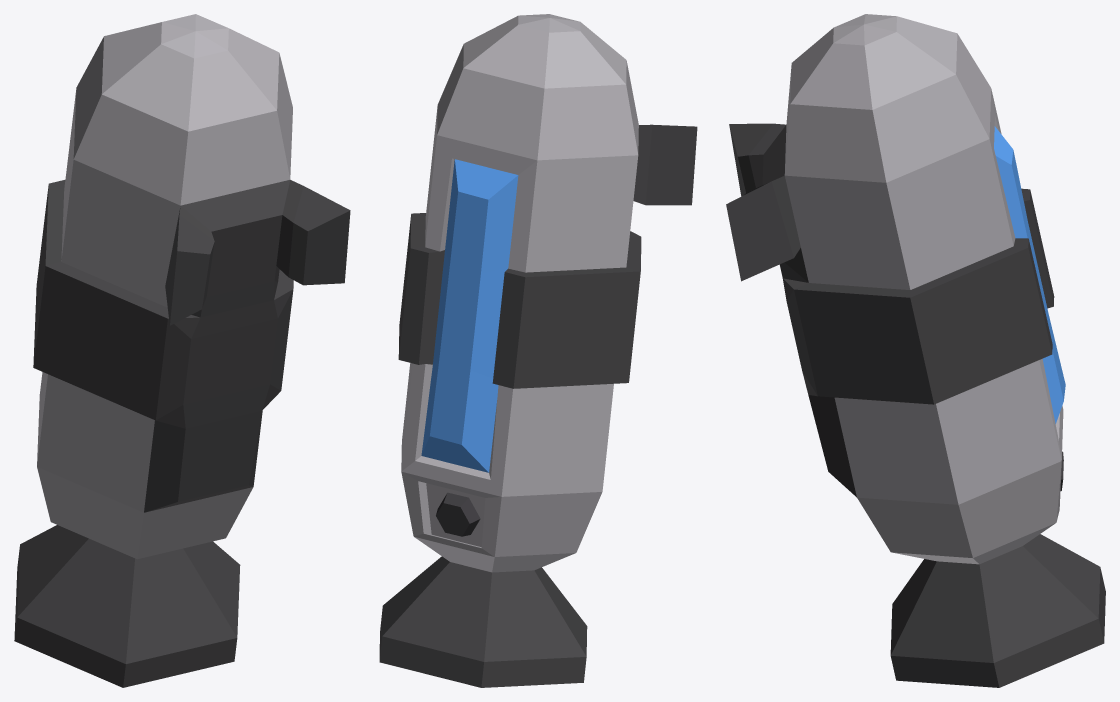
Rendered from jetpack.fbx.
The picture shows the model from 3 angles, left to right: view 1: azimuth 30°, elevation 25°; view 2: azimuth 150°, elevation 25°; view 3: azimuth 270°, elevation 25°; orthographic projection. The views are drawn at different scales.
Visible parts, largest first — view 1: Mesh; view 2: Mesh; view 3: Mesh.
Boxes of the visible parts, bbox=[...] form: Mesh: bbox=[14, 14, 350, 687]; Mesh: bbox=[379, 14, 697, 687]; Mesh: bbox=[726, 14, 1105, 687].
Size of the model in its own units: 38.94 by 97.98 by 53.49.
